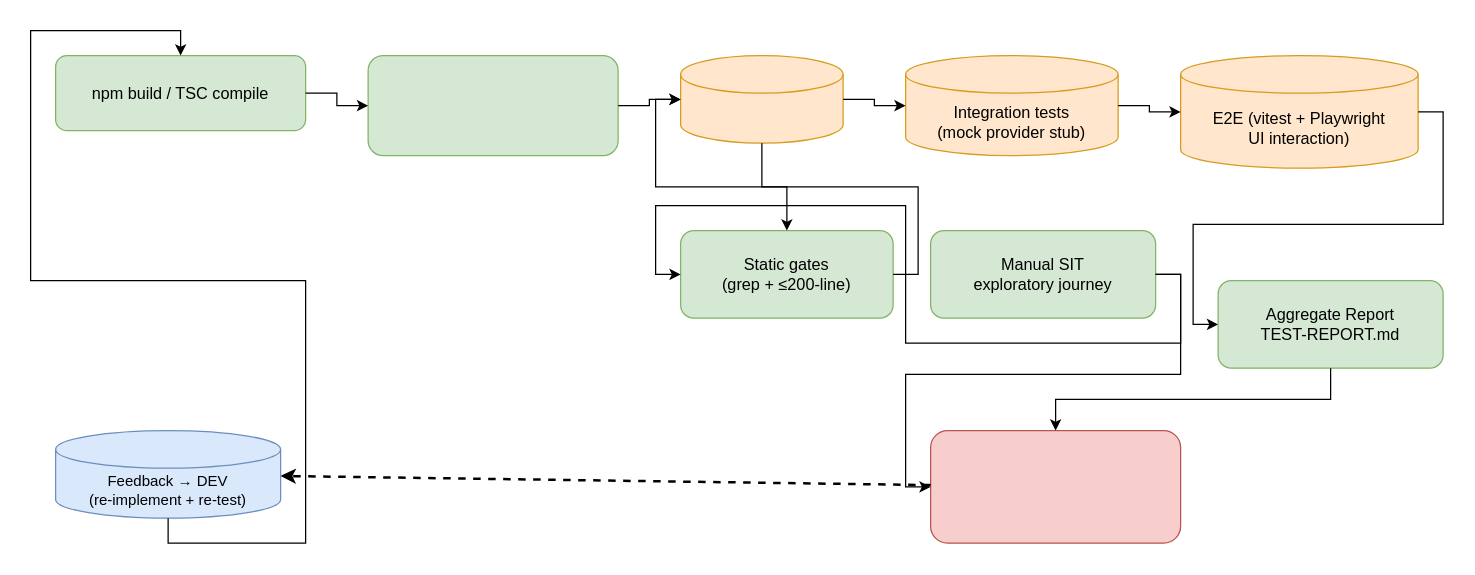
The diagram is 1475 pixels wide and 575 high, and some of its shapes have lost their labels. Each missing label, with the box of its shape:
Exit-Criteria Gate (pass / fail loop ≤2 retries): (929, 429, 1181, 543)
launch VS Code Extension Dev Host: (367, 54, 618, 156)
Unit tests (vitest): (679, 54, 843, 143)
